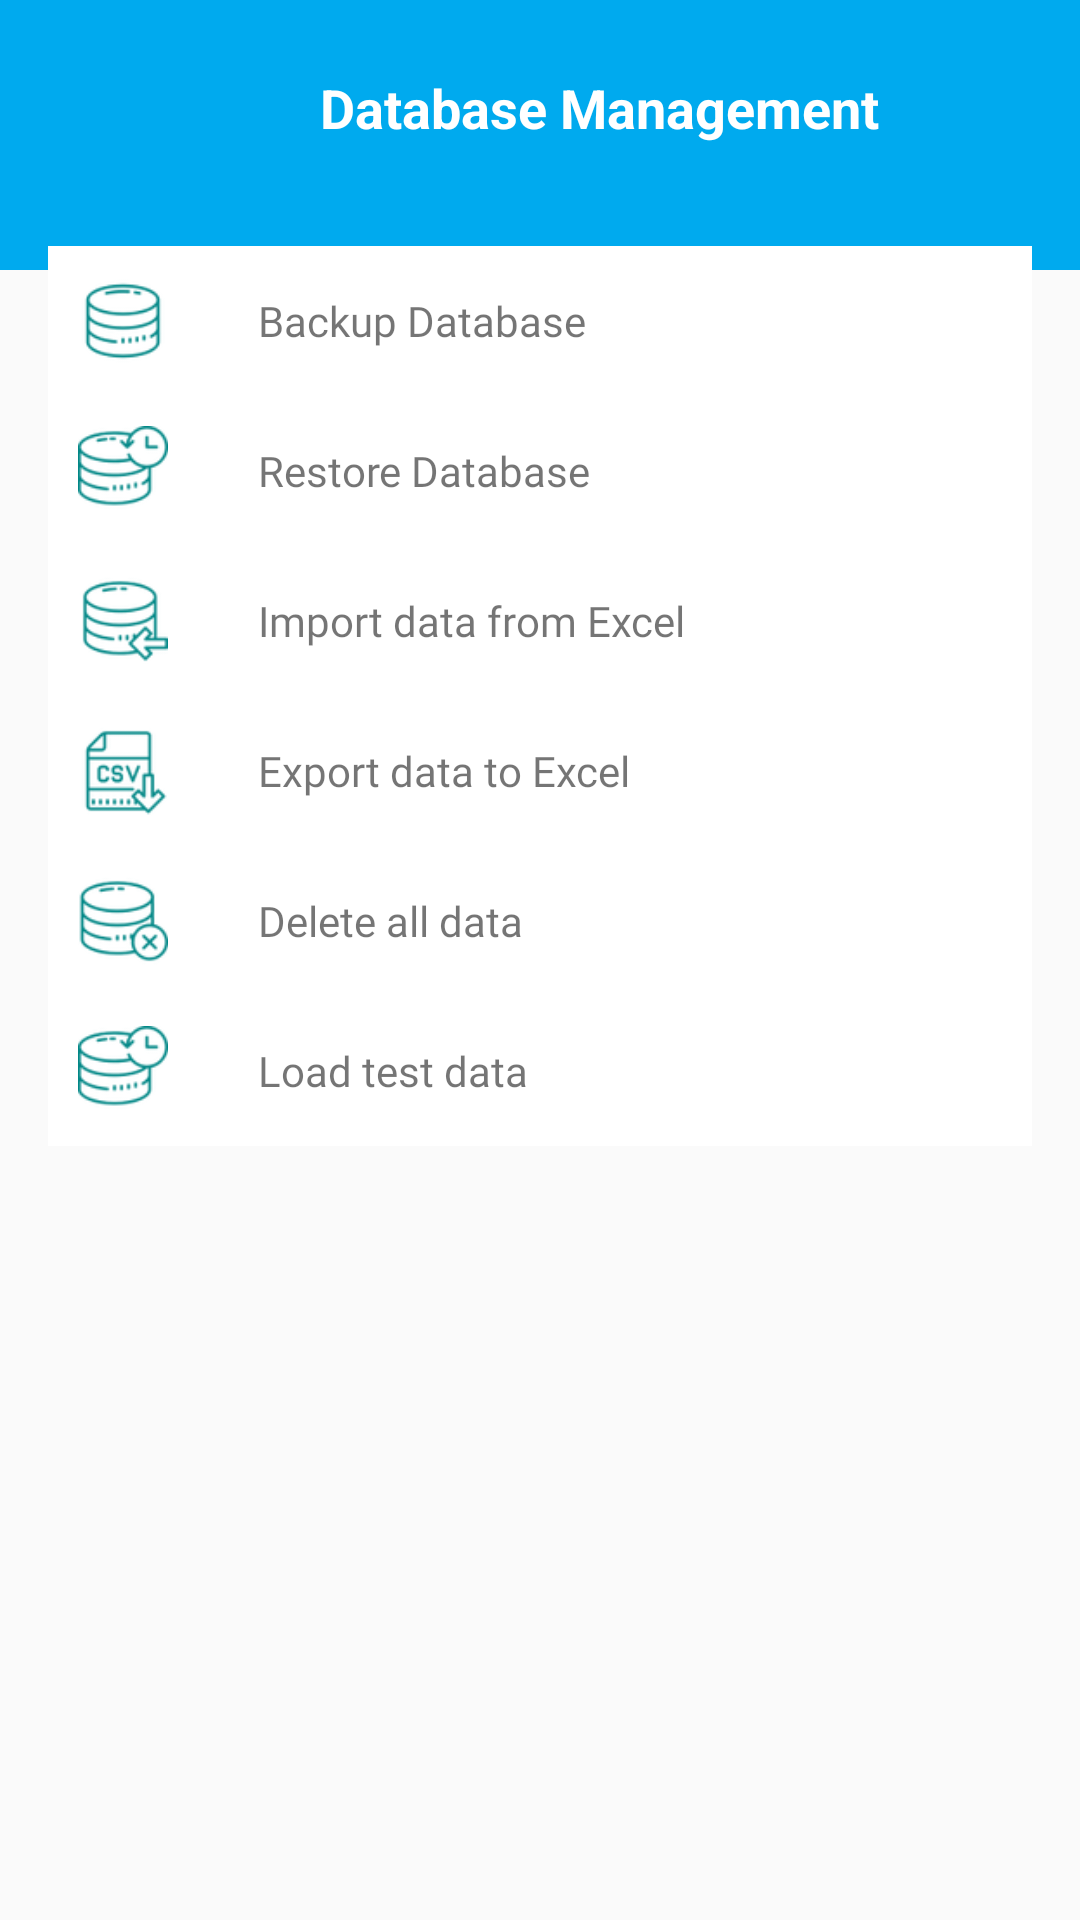

Where icons sit on this 1080x1920 app screen, as (x1,y1,x2,y2):
database backup restore: (78,426,168,506), (78,1026,168,1106)
database export csv: (85,731,166,814)
database import: (83,581,168,661)
delete database: (79,881,168,961)
